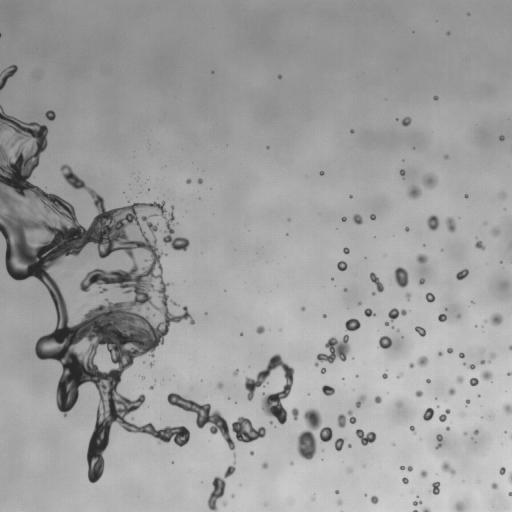droplet: (295, 408, 333, 460), (314, 334, 351, 367), (355, 428, 376, 446), (394, 266, 409, 288), (408, 355, 430, 368), (422, 172, 438, 189), (439, 460, 455, 477), (483, 313, 503, 326), (345, 318, 361, 332), (426, 214, 439, 231), (407, 184, 421, 199), (377, 335, 392, 349), (479, 369, 493, 383), (445, 216, 456, 233), (428, 481, 441, 495), (321, 384, 335, 396), (422, 407, 434, 421), (438, 408, 450, 422), (334, 437, 346, 451), (355, 393, 366, 408), (456, 268, 469, 280), (413, 326, 426, 337), (336, 414, 346, 428), (352, 214, 363, 225), (336, 260, 347, 271), (3, 126, 14, 137), (419, 164, 430, 175), (431, 165, 442, 176), (60, 181, 71, 192), (58, 189, 69, 200), (152, 214, 163, 225), (80, 217, 91, 228), (155, 227, 166, 238), (156, 241, 167, 252), (406, 272, 417, 283), (379, 273, 390, 284), (385, 274, 396, 285), (431, 302, 442, 313), (169, 305, 180, 316), (51, 359, 62, 370), (419, 365, 430, 376), (272, 366, 283, 377), (491, 369, 502, 380), (222, 374, 233, 385), (275, 375, 286, 386), (79, 381, 90, 392), (271, 382, 282, 393), (115, 383, 126, 394), (180, 388, 191, 399), (47, 389, 58, 400), (454, 390, 465, 401), (280, 397, 291, 408), (169, 417, 180, 428), (414, 417, 425, 428), (185, 420, 196, 431), (298, 420, 309, 431), (109, 421, 120, 432), (344, 423, 355, 434), (144, 433, 155, 444), (288, 438, 299, 449), (436, 450, 447, 461), (252, 453, 263, 464), (78, 462, 89, 473), (101, 465, 112, 476), (437, 472, 448, 483), (423, 492, 434, 503), (490, 226, 500, 237), (453, 501, 464, 511), (416, 254, 428, 263), (364, 308, 376, 317), (502, 403, 511, 415), (291, 407, 299, 420), (401, 116, 411, 126), (425, 292, 435, 302), (469, 377, 479, 386), (438, 313, 447, 322), (256, 325, 265, 334), (370, 495, 379, 504), (3, 107, 12, 116), (44, 132, 53, 141), (414, 179, 423, 188), (419, 185, 428, 194), (414, 195, 423, 204), (90, 207, 99, 216), (437, 219, 446, 228), (27, 275, 36, 284), (492, 305, 501, 314), (483, 310, 492, 319), (357, 313, 366, 322), (485, 321, 494, 330), (45, 324, 54, 333), (382, 327, 391, 336), (427, 352, 436, 361), (463, 354, 472, 363), (471, 368, 480, 377), (345, 374, 354, 383), (419, 382, 428, 391), (128, 392, 137, 401), (496, 409, 505, 418), (311, 428, 320, 437), (80, 441, 89, 450), (100, 449, 109, 458), (312, 450, 321, 459), (295, 454, 304, 463), (426, 474, 435, 483), (414, 389, 424, 397), (455, 375, 464, 383), (215, 381, 224, 389), (420, 469, 428, 478), (505, 132, 511, 143), (368, 505, 379, 511), (498, 191, 506, 199), (374, 395, 382, 403), (401, 476, 409, 484), (412, 500, 422, 506), (436, 349, 444, 356), (232, 368, 239, 376), (448, 387, 455, 395), (395, 400, 403, 407), (490, 482, 498, 489), (286, 497, 293, 505), (0, 204, 5, 215), (0, 235, 5, 246), (0, 246, 5, 257), (405, 292, 411, 301), (342, 247, 349, 254), (261, 462, 268, 469), (38, 151, 45, 158), (9, 156, 16, 163), (72, 168, 79, 175), (26, 176, 33, 183), (190, 176, 197, 183), (83, 178, 90, 185), (432, 185, 439, 192), (78, 187, 85, 194), (87, 196, 94, 203), (163, 203, 170, 210), (73, 209, 80, 216), (423, 211, 430, 218), (361, 214, 368, 221), (149, 216, 156, 223), (346, 216, 353, 223), (453, 218, 460, 225), (454, 222, 461, 229), (486, 222, 493, 229), (422, 224, 429, 231), (419, 248, 426, 255), (340, 253, 347, 260), (410, 253, 417, 260), (158, 256, 165, 263), (415, 261, 422, 268), (388, 271, 395, 278), (4, 273, 11, 280), (19, 278, 26, 285), (391, 280, 398, 287), (369, 282, 376, 289), (403, 284, 410, 291), (359, 303, 366, 310), (168, 321, 175, 328), (497, 322, 504, 329), (335, 335, 342, 342), (154, 344, 161, 351), (323, 348, 330, 355), (416, 350, 423, 357), (451, 350, 458, 357), (266, 351, 273, 358), (481, 352, 488, 359), (280, 355, 287, 362), (132, 356, 139, 363), (333, 356, 340, 363), (411, 356, 418, 363), (321, 359, 328, 366), (286, 360, 293, 367), (425, 361, 432, 368), (260, 363, 267, 370), (413, 363, 420, 370), (481, 363, 488, 370), (291, 371, 298, 378), (119, 372, 126, 379), (250, 373, 257, 380), (462, 378, 469, 385), (51, 381, 58, 388), (452, 382, 459, 389), (289, 385, 296, 392), (253, 386, 260, 393), (442, 391, 449, 398), (76, 394, 83, 401), (367, 395, 374, 402), (138, 403, 145, 410), (67, 408, 74, 415), (297, 410, 304, 417), (189, 411, 196, 418), (220, 411, 227, 418), (432, 411, 439, 418), (285, 412, 292, 419), (124, 414, 131, 421), (270, 415, 277, 422), (136, 419, 143, 426), (204, 421, 211, 428), (318, 421, 325, 428), (352, 422, 359, 429), (154, 423, 161, 430), (88, 424, 95, 431), (264, 424, 271, 431), (440, 429, 447, 436), (215, 430, 222, 437), (228, 430, 235, 437), (330, 434, 337, 441), (151, 436, 158, 443), (328, 437, 335, 444), (81, 446, 88, 453), (436, 457, 443, 464), (449, 461, 456, 468), (434, 464, 441, 471), (401, 469, 408, 476), (217, 471, 224, 478), (81, 472, 88, 479), (97, 476, 104, 483), (223, 476, 230, 483), (207, 484, 214, 491), (457, 495, 464, 502), (215, 497, 222, 504), (428, 504, 435, 511), (506, 464, 511, 473), (462, 506, 471, 511), (498, 135, 505, 141), (369, 213, 375, 220), (418, 278, 425, 284), (458, 352, 465, 358), (149, 360, 155, 367), (320, 367, 326, 374), (396, 372, 403, 378), (346, 467, 353, 473), (336, 499, 343, 505), (467, 364, 475, 369), (465, 399, 470, 407), (310, 493, 315, 501), (185, 178, 191, 184), (197, 178, 203, 184), (382, 373, 388, 379), (459, 411, 465, 417), (473, 429, 479, 435), (446, 348, 453, 353), (138, 375, 145, 380), (443, 154, 449, 159), (455, 313, 461, 318), (507, 398, 511, 405), (507, 412, 511, 419), (429, 507, 436, 511), (449, 507, 456, 511), (277, 74, 282, 79), (433, 95, 438, 100), (341, 216, 346, 221), (300, 306, 305, 311), (426, 378, 431, 383), (445, 426, 450, 431), (462, 431, 467, 436), (249, 450, 254, 455), (230, 493, 235, 498), (222, 501, 227, 506), (8, 60, 13, 65), (13, 71, 18, 76), (6, 77, 11, 82), (47, 105, 52, 110), (42, 107, 47, 112), (54, 114, 59, 119), (398, 115, 403, 120), (28, 117, 33, 122), (397, 118, 402, 123), (350, 124, 355, 129), (402, 125, 407, 130), (502, 131, 507, 136), (15, 140, 20, 145), (62, 159, 67, 164), (57, 161, 62, 166), (33, 166, 38, 171), (201, 176, 206, 181), (201, 180, 206, 185), (39, 185, 44, 190), (44, 188, 49, 193), (99, 192, 104, 197), (137, 198, 142, 203), (128, 200, 133, 205), (123, 201, 128, 206), (104, 206, 109, 211), (354, 209, 359, 214), (431, 210, 436, 215), (146, 217, 151, 222), (351, 221, 356, 226), (164, 230, 169, 235), (170, 233, 175, 238), (182, 233, 187, 238), (471, 239, 476, 244), (481, 240, 486, 245), (166, 241, 171, 246), (186, 244, 191, 249), (475, 247, 480, 252), (178, 248, 183, 253), (401, 264, 406, 269), (455, 267, 460, 272), (451, 273, 456, 278), (378, 277, 383, 282), (461, 277, 466, 282), (331, 279, 336, 284), (164, 289, 169, 294), (165, 299, 170, 304), (49, 301, 54, 306), (299, 301, 304, 306), (179, 302, 184, 307), (295, 306, 300, 311), (396, 306, 401, 311), (186, 307, 191, 312), (385, 307, 390, 312), (439, 308, 444, 313), (51, 309, 56, 314), (179, 309, 184, 314), (405, 311, 410, 316), (52, 313, 57, 318), (350, 313, 355, 318), (397, 313, 402, 318), (368, 314, 373, 319), (344, 315, 349, 320), (385, 316, 390, 321), (185, 317, 190, 322), (393, 317, 398, 322), (457, 317, 462, 322), (180, 318, 185, 323), (436, 320, 441, 325), (441, 320, 446, 325), (254, 322, 259, 327), (340, 322, 345, 327), (263, 324, 268, 329), (251, 326, 256, 331), (354, 328, 359, 333), (345, 329, 350, 334), (166, 330, 171, 335), (398, 330, 403, 335), (259, 332, 264, 337), (162, 334, 167, 339), (33, 336, 38, 341), (323, 337, 328, 342), (390, 337, 395, 342), (346, 339, 351, 344), (374, 340, 379, 345), (448, 343, 453, 348), (30, 344, 35, 349), (503, 345, 508, 350), (378, 346, 383, 351), (383, 347, 388, 352), (441, 348, 446, 353), (345, 353, 350, 358), (33, 355, 38, 360), (477, 355, 482, 360), (459, 357, 464, 362), (465, 360, 470, 365), (404, 363, 409, 368), (451, 374, 456, 379), (265, 375, 270, 380), (476, 375, 481, 380), (490, 375, 495, 380), (216, 376, 221, 381), (398, 376, 403, 381), (148, 380, 153, 385), (326, 381, 331, 386), (211, 382, 216, 387), (221, 385, 226, 390), (415, 385, 420, 390), (278, 386, 283, 391), (444, 386, 449, 391), (171, 388, 176, 393), (215, 388, 220, 393), (318, 389, 323, 394), (333, 389, 338, 394), (454, 390, 459, 395), (179, 392, 184, 397), (94, 393, 99, 398), (329, 393, 334, 398), (162, 394, 167, 399), (450, 394, 455, 399), (185, 395, 190, 400), (418, 395, 423, 400), (230, 396, 235, 401), (380, 396, 385, 401), (352, 397, 357, 402), (142, 400, 147, 405), (198, 400, 203, 405), (359, 402, 364, 407), (375, 402, 380, 407), (446, 404, 451, 409), (178, 407, 183, 412), (463, 407, 468, 412), (440, 409, 445, 414), (58, 410, 63, 415), (351, 411, 356, 416), (243, 413, 248, 418), (445, 413, 450, 418), (344, 415, 349, 420), (248, 416, 253, 421), (344, 418, 349, 423), (442, 420, 447, 425), (177, 421, 182, 426), (413, 424, 418, 429), (253, 425, 258, 430), (121, 428, 126, 433), (468, 430, 473, 435), (477, 430, 482, 435), (264, 431, 269, 436), (473, 434, 478, 439), (256, 436, 261, 441), (356, 437, 361, 442), (187, 438, 192, 443), (373, 438, 378, 443), (250, 439, 255, 444), (433, 439, 438, 444), (160, 440, 165, 445), (222, 440, 227, 445), (366, 441, 371, 446), (342, 442, 347, 447), (182, 443, 187, 448), (228, 449, 233, 454), (257, 460, 262, 465), (227, 461, 232, 466), (267, 462, 272, 467), (233, 463, 238, 468), (422, 465, 427, 470), (222, 466, 227, 471), (262, 468, 267, 473), (504, 468, 509, 473), (453, 472, 458, 477), (209, 476, 214, 481), (489, 478, 494, 483), (88, 481, 93, 486), (486, 483, 491, 488), (223, 486, 228, 491), (491, 488, 496, 493), (434, 493, 439, 498), (366, 494, 371, 499), (376, 494, 381, 499), (376, 500, 381, 505), (368, 501, 373, 506), (337, 504, 342, 509), (414, 504, 419, 509), (371, 291, 377, 295), (0, 232, 3, 239), (319, 171, 324, 175), (464, 194, 469, 198), (405, 226, 409, 231), (506, 371, 511, 375), (347, 443, 351, 448), (334, 490, 339, 494), (508, 344, 511, 350), (508, 490, 511, 496), (446, 31, 450, 35), (350, 129, 354, 133), (349, 194, 353, 198), (483, 221, 487, 225), (343, 288, 347, 292), (357, 301, 361, 305), (322, 314, 326, 318), (390, 325, 394, 329), (289, 461, 293, 465), (361, 464, 365, 468), (476, 479, 480, 483), (508, 367, 511, 372), (207, 508, 212, 511), (466, 12, 470, 15), (266, 145, 269, 149), (147, 188, 150, 192), (198, 197, 202, 200), (287, 218, 291, 221), (285, 233, 289, 236), (422, 243, 425, 247), (440, 248, 443, 252), (470, 300, 474, 303), (278, 328, 282, 331), (396, 328, 399, 332), (240, 332, 243, 336), (462, 362, 466, 365), (341, 377, 345, 380), (477, 394, 481, 397), (227, 396, 231, 399), (392, 442, 395, 446), (321, 448, 324, 452), (364, 493, 367, 497), (0, 218, 2, 223), (211, 70, 214, 73), (395, 118, 398, 121), (499, 260, 502, 263), (331, 277, 334, 280), (444, 307, 447, 310), (204, 312, 207, 315), (474, 324, 477, 327), (355, 374, 358, 377), (307, 392, 310, 395), (234, 401, 237, 404), (436, 405, 439, 408), (131, 417, 134, 420), (504, 430, 507, 433), (467, 15, 470, 18), (445, 28, 448, 31), (449, 30, 452, 33), (0, 33, 3, 36), (448, 34, 451, 37), (211, 67, 214, 70), (207, 70, 210, 73), (280, 72, 283, 75), (210, 73, 213, 76), (275, 77, 278, 80), (280, 77, 283, 80), (434, 92, 437, 95), (433, 99, 436, 102), (392, 118, 395, 121), (353, 129, 356, 132), (347, 131, 350, 134), (351, 132, 354, 135), (497, 132, 500, 135), (495, 136, 498, 139), (497, 139, 500, 142), (502, 139, 505, 142), (266, 142, 269, 145), (263, 146, 266, 149), (268, 147, 271, 150), (320, 167, 323, 170), (396, 170, 399, 173), (323, 171, 326, 174), (404, 171, 407, 174), (316, 172, 319, 175), (321, 174, 324, 177), (199, 175, 202, 178), (399, 175, 402, 178), (183, 177, 186, 180), (146, 180, 149, 183), (185, 183, 188, 186), (198, 183, 201, 186), (149, 187, 152, 190), (122, 188, 125, 191), (144, 188, 147, 191), (465, 191, 468, 194), (123, 192, 126, 195), (350, 192, 353, 195), (346, 193, 349, 196), (461, 194, 464, 197), (348, 197, 351, 200), (463, 197, 466, 200), (197, 199, 200, 202), (172, 213, 175, 216), (375, 215, 378, 218), (338, 218, 341, 221), (371, 219, 374, 222), (342, 221, 345, 224), (169, 224, 172, 227), (402, 225, 405, 228), (408, 226, 411, 229), (402, 229, 405, 232), (283, 230, 286, 233), (287, 231, 290, 234), (372, 232, 375, 235), (284, 235, 287, 238), (375, 235, 378, 238), (424, 241, 427, 244), (347, 245, 350, 248), (340, 246, 343, 249), (437, 247, 440, 250), (484, 247, 487, 250), (348, 250, 351, 253), (341, 251, 344, 254), (440, 251, 443, 254), (362, 253, 365, 256), (360, 256, 363, 259), (337, 258, 340, 261), (363, 258, 366, 261), (496, 259, 499, 262), (502, 260, 505, 263), (499, 263, 502, 266), (335, 267, 338, 270), (342, 269, 345, 272), (327, 277, 330, 280), (368, 278, 371, 281), (416, 279, 419, 282), (163, 280, 166, 283), (423, 281, 426, 284), (420, 283, 423, 286), (344, 284, 347, 287), (340, 287, 343, 290), (346, 287, 349, 290), (220, 288, 223, 291), (424, 290, 427, 293), (343, 291, 346, 294), (433, 293, 436, 296), (422, 294, 425, 297), (409, 296, 412, 299), (434, 296, 437, 299), (423, 298, 426, 301), (472, 298, 475, 301), (175, 300, 178, 303), (354, 301, 357, 304), (427, 301, 430, 304), (430, 301, 433, 304), (467, 301, 470, 304), (470, 303, 473, 306), (444, 304, 447, 307), (304, 306, 307, 309), (204, 308, 207, 311), (322, 310, 325, 313), (207, 311, 210, 314), (454, 311, 457, 314), (325, 312, 328, 315), (204, 314, 207, 317), (319, 314, 322, 317), (460, 314, 463, 317), (435, 316, 438, 319), (322, 317, 325, 320), (473, 321, 476, 324), (481, 321, 484, 324), (381, 322, 384, 325), (388, 322, 391, 325), (192, 323, 195, 326), (416, 323, 419, 326), (420, 324, 423, 327), (477, 324, 480, 327), (385, 325, 388, 328), (471, 325, 474, 328), (393, 327, 396, 330), (474, 327, 477, 330), (481, 327, 484, 330), (425, 330, 428, 333), (415, 331, 418, 334), (236, 332, 239, 335), (242, 332, 245, 335), (424, 333, 427, 336), (239, 335, 242, 338), (402, 337, 405, 340), (463, 351, 466, 354), (447, 352, 450, 355), (439, 355, 442, 358), (490, 359, 493, 362), (471, 361, 474, 364), (151, 365, 154, 368), (233, 366, 236, 369), (505, 369, 508, 372), (384, 370, 387, 373), (324, 371, 327, 374), (140, 372, 143, 375), (321, 373, 324, 376), (352, 373, 355, 376), (340, 374, 343, 377), (358, 374, 361, 377), (343, 375, 346, 378), (379, 375, 382, 378), (138, 376, 141, 379), (424, 376, 427, 379), (428, 376, 431, 379), (355, 377, 358, 380), (202, 378, 205, 381), (383, 378, 386, 381), (340, 379, 343, 382), (430, 379, 433, 382), (425, 382, 428, 385), (467, 382, 470, 385), (146, 384, 149, 387), (153, 385, 156, 388), (471, 385, 474, 388), (306, 389, 309, 392), (374, 393, 377, 396), (224, 395, 227, 398), (306, 395, 309, 398), (144, 396, 147, 399), (436, 396, 439, 399), (465, 396, 468, 399), (476, 396, 479, 399), (227, 399, 230, 402), (469, 399, 472, 402), (236, 400, 239, 403), (463, 401, 466, 404), (234, 403, 237, 406), (449, 409, 452, 412), (480, 412, 483, 415), (482, 417, 485, 420), (355, 418, 358, 421), (423, 419, 426, 422), (410, 422, 413, 425), (406, 425, 409, 428), (472, 427, 475, 430), (477, 428, 480, 431), (408, 429, 411, 432), (500, 429, 503, 432), (506, 430, 509, 433), (127, 431, 130, 434), (435, 431, 438, 434), (502, 432, 505, 435), (438, 446, 441, 449), (432, 447, 435, 450), (246, 451, 249, 454), (253, 451, 256, 454), (248, 454, 251, 457), (323, 457, 326, 460), (173, 460, 176, 463), (320, 460, 323, 463), (400, 462, 403, 465), (170, 463, 173, 466), (396, 465, 399, 468), (411, 465, 414, 468), (497, 467, 500, 470), (496, 470, 499, 473), (433, 479, 436, 482), (407, 480, 410, 483), (400, 481, 403, 484), (403, 483, 406, 486), (335, 486, 338, 489), (338, 489, 341, 492), (505, 491, 508, 494), (361, 492, 364, 495), (335, 493, 338, 496), (415, 498, 418, 501), (409, 501, 412, 504), (239, 483, 241, 487), (416, 494, 418, 498), (413, 146, 415, 149), (401, 159, 404, 161), (503, 208, 506, 210), (364, 256, 366, 259), (401, 336, 404, 338), (351, 357, 354, 359), (142, 361, 145, 363), (200, 379, 202, 382), (352, 388, 354, 391), (480, 416, 483, 418), (200, 481, 203, 483), (462, 480, 465, 482), (509, 374, 511, 377), (509, 495, 511, 498), (224, 289, 226, 291), (481, 325, 483, 327), (248, 365, 250, 367), (435, 397, 437, 399), (274, 426, 276, 428), (471, 437, 473, 439), (321, 458, 323, 460), (171, 461, 173, 463), (0, 140, 1, 143), (412, 31, 414, 32), (147, 178, 148, 180), (122, 192, 124, 193), (458, 217, 460, 218), (386, 369, 387, 371), (475, 441, 476, 443), (374, 236, 375, 237)
ligament: (0, 64, 17, 92), (384, 308, 410, 325), (26, 110, 55, 121), (369, 272, 384, 292), (499, 466, 511, 484), (479, 352, 496, 364), (474, 236, 485, 250), (347, 409, 356, 424), (435, 434, 444, 449), (399, 465, 413, 471), (170, 299, 180, 307), (148, 379, 156, 389), (409, 425, 416, 435), (399, 169, 405, 180), (420, 506, 431, 511), (412, 509, 418, 511), (509, 434, 511, 439), (0, 33, 1, 37), (339, 510, 343, 511)
